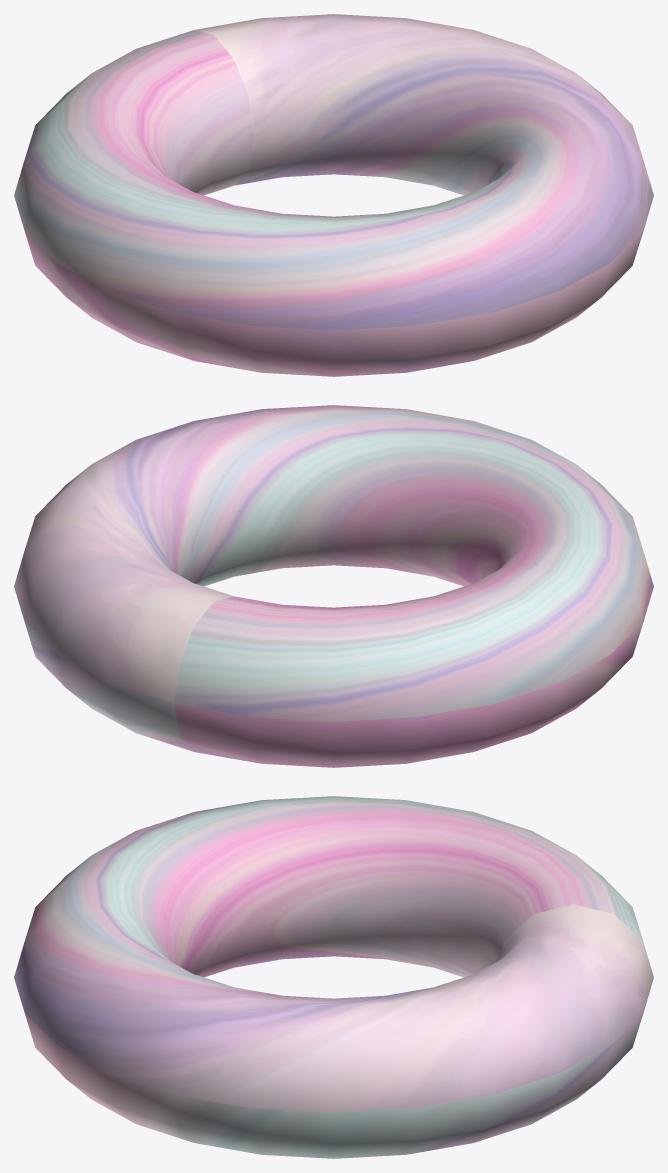
File: Prim_09.gltf
3 views of the same model, one above another, from view 1: azimuth 30°, elevation 25°; view 2: azimuth 150°, elevation 25°; view 3: azimuth 270°, elevation 25° (orthographic).
Visible parts, largest first — view 1: 003; view 2: 003; view 3: 003.
Boxes of the visible parts, bbox=[...] form: 003: bbox=[14, 14, 653, 376]; 003: bbox=[14, 405, 653, 767]; 003: bbox=[14, 796, 653, 1158].
Size of the model in its own units: 96.88 by 24.35 by 96.88.
Materials: 1 (1 with a texture image).
